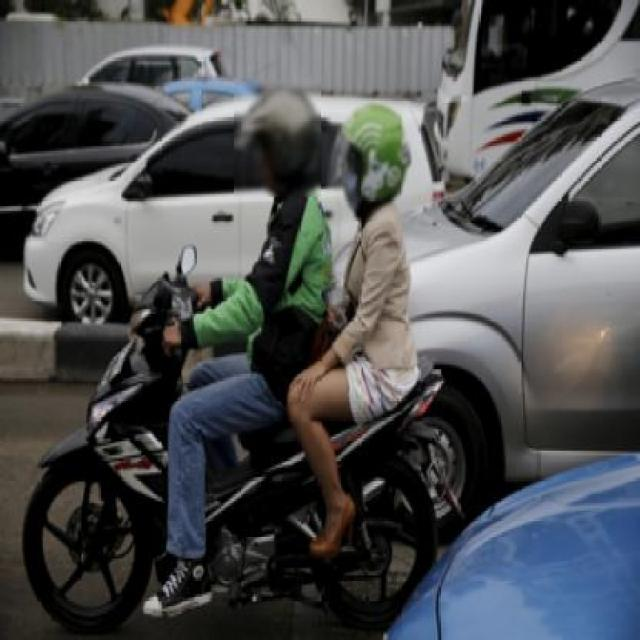With Helmet: (326, 100, 412, 223), (234, 80, 321, 200)
